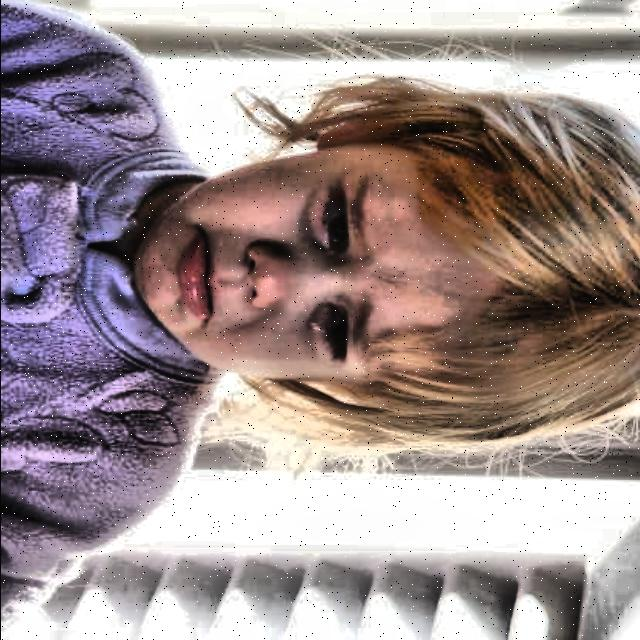sad: (122, 63, 640, 461)
